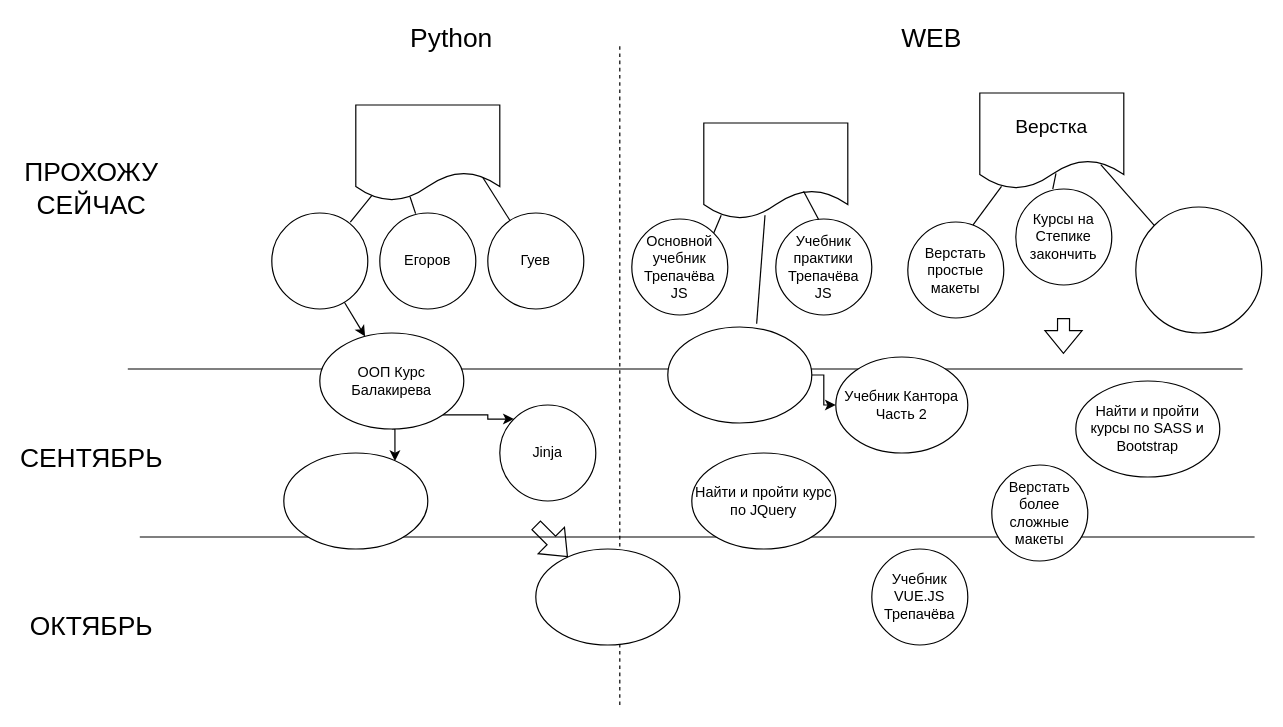
This 1283x727 diagram has some shape labels left out. Here are the shapes that lost their labels. From the top down, the centre of each, then its label:
point (427, 152): Стартовые курсы на степике закончить
point (775, 170): Стартовые учебники по JS допройти
point (319, 260): Балакирев
point (1198, 269): Основной и высший учебники Трепачёва допройти
point (739, 374): Учебник Кантора Часть 1
point (355, 500): Регулярные выражения Курс Балакирева
point (607, 596): Django Курсы Балакирева
